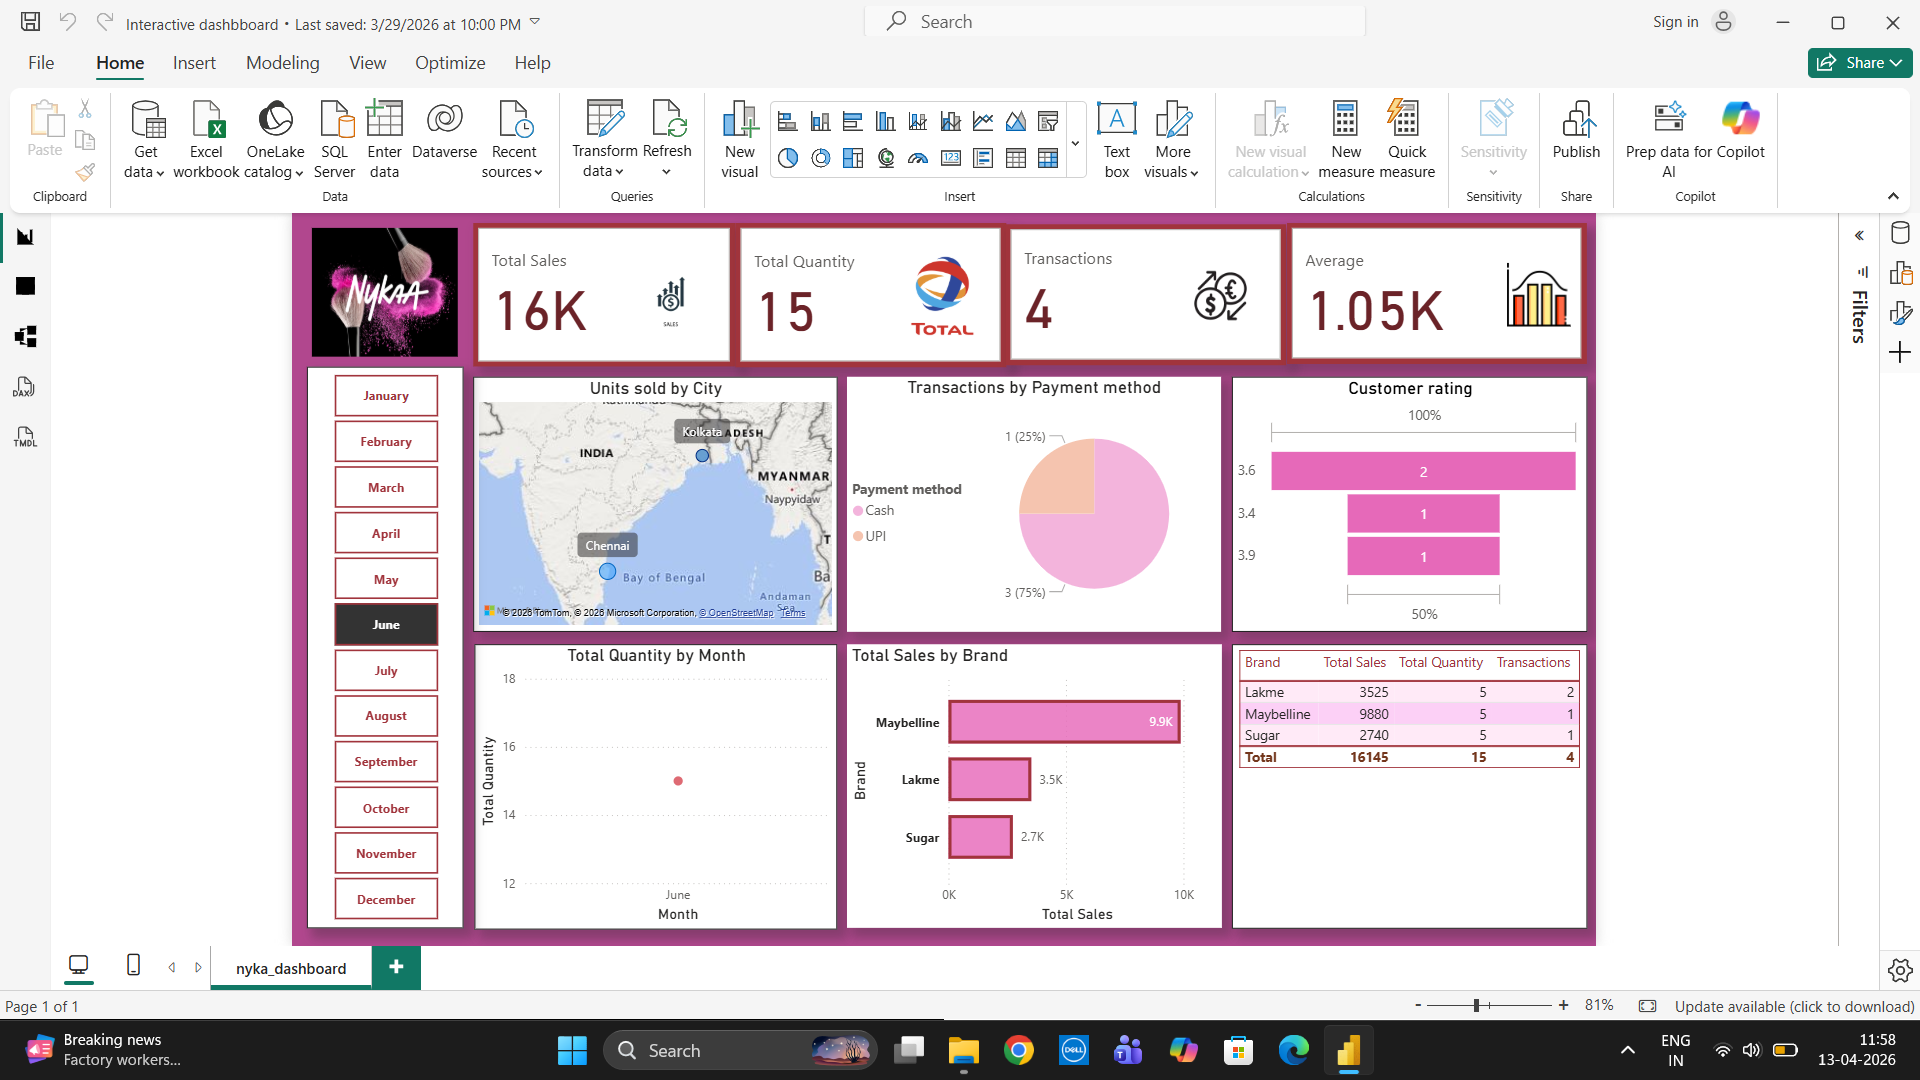

What the dashboard file says about the page in this screenshot:
{"tool":"powerbi","page":{"name":"nyka_dashboard","canvas":[1280,720],"ordinal":0},"visuals":[{"type":"cardVisual","fields":{"Data":["NykaSalesData.Total Sales"]},"box":[177.9,9.8,257.7,141.1],"z":3000},{"type":"cardVisual","fields":{"Data":["NykaSalesData.Total Quantity"]},"box":[435.7,10.1,265.5,141.4],"z":4000},{"type":"cardVisual","fields":{"Data":["NykaSalesData.Transactions"]},"box":[701.2,11.5,275.6,138.5],"z":5000},{"type":"cardVisual","fields":{"Data":["NykaSalesData.Average"]},"box":[976.7,10.1,294.3,138.5],"z":6000},{"type":"map","title":"Units sold by City","fields":{"Category":["NykaSalesData.City"],"Size":["NykaSalesData.Total Sales"]},"box":[177.5,161.2,357.5,250],"z":6001},{"type":"lineChart","fields":{"Category":["NykaSalesData.Date.Variation.Date Hierarchy.Month"],"Y":["NykaSalesData.Total Quantity"]},"box":[179.1,423.3,355.8,279.8],"z":6002},{"type":"pieChart","fields":{"Category":["NykaSalesData.Payment method"],"Y":["NykaSalesData.Transactions"]},"box":[545,161.2,367.5,250],"z":6003},{"type":"funnel","title":"Customer rating","fields":{"Category":["NykaSalesData.Customer rating"],"Y":["CountNonNull(NykaSalesData.Customer rating)"]},"box":[922.5,161.2,348.8,250],"z":6004},{"type":"barChart","fields":{"Category":["NykaSalesData.Brand"],"Y":["NykaSalesData.Total Sales"]},"box":[544.8,423.3,368.1,278.5],"z":6005},{"type":"tableEx","fields":{"Values":["NykaSalesData.Brand","NykaSalesData.Total Sales","NykaSalesData.Total Quantity","NykaSalesData.Transactions"]},"box":[923,423,349,279],"z":6006},{"type":"slicer","fields":{"Values":["NykaSalesData.Date.Variation.Date Hierarchy.Month"]},"box":[14.7,150.9,153.4,550.9],"z":6007},{"type":"image","box":[14.7,9.8,153.4,136.2],"z":6008}]}

Visuals, with their boxes on the page's 1280x720 design canvas (x1, y1, x2, y2). These are canvas units, not pixel positions in the 1920x1080 screenshot, which may show the page scaled, cropped or inside an application window:
cardVisual - NykaSalesData.Total Sales: <bbox>178, 10, 436, 151</bbox>
cardVisual - NykaSalesData.Total Quantity: <bbox>436, 10, 701, 152</bbox>
cardVisual - NykaSalesData.Transactions: <bbox>701, 12, 977, 150</bbox>
cardVisual - NykaSalesData.Average: <bbox>977, 10, 1271, 149</bbox>
"Units sold by City" map: <bbox>178, 161, 535, 411</bbox>
lineChart - NykaSalesData.Date.Variation.Date Hierarchy.Month x NykaSalesData.Total Quantity: <bbox>179, 423, 535, 703</bbox>
pieChart - NykaSalesData.Payment method x NykaSalesData.Transactions: <bbox>545, 161, 912, 411</bbox>
"Customer rating" funnel: <bbox>922, 161, 1271, 411</bbox>
barChart - NykaSalesData.Brand x NykaSalesData.Total Sales: <bbox>545, 423, 913, 702</bbox>
tableEx - NykaSalesData.Brand x NykaSalesData.Total Sales: <bbox>923, 423, 1272, 702</bbox>
slicer - NykaSalesData.Date.Variation.Date Hierarchy.Month: <bbox>15, 151, 168, 702</bbox>
image: <bbox>15, 10, 168, 146</bbox>
